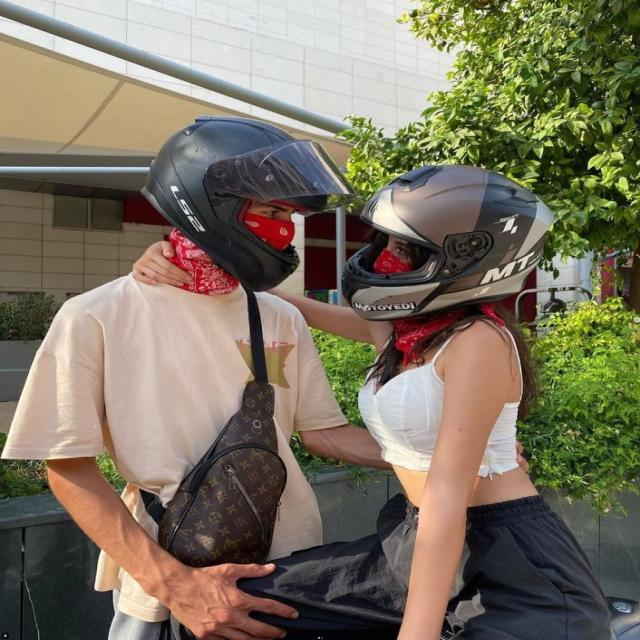helmet: (134, 109, 358, 299), (338, 160, 562, 326)
